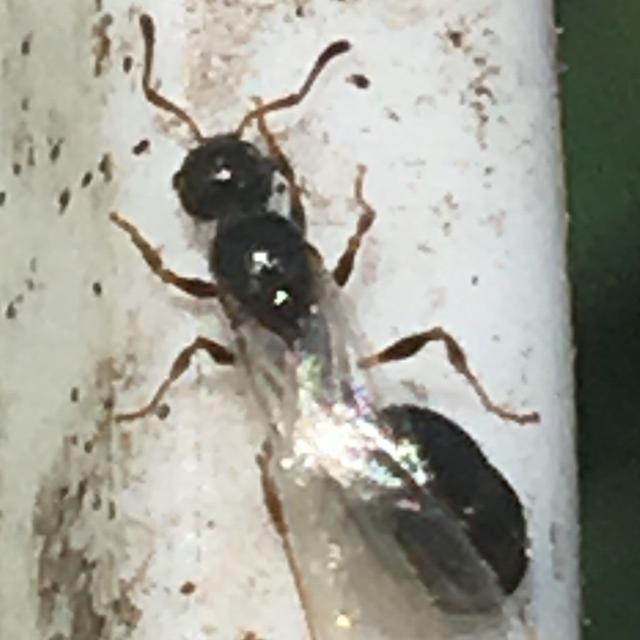Tetramorium: (120, 0, 640, 638)
